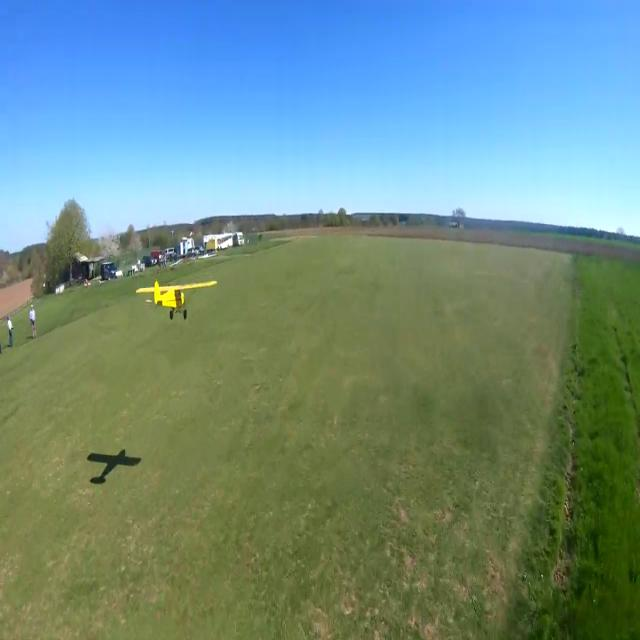iha: (167, 277, 186, 319)
